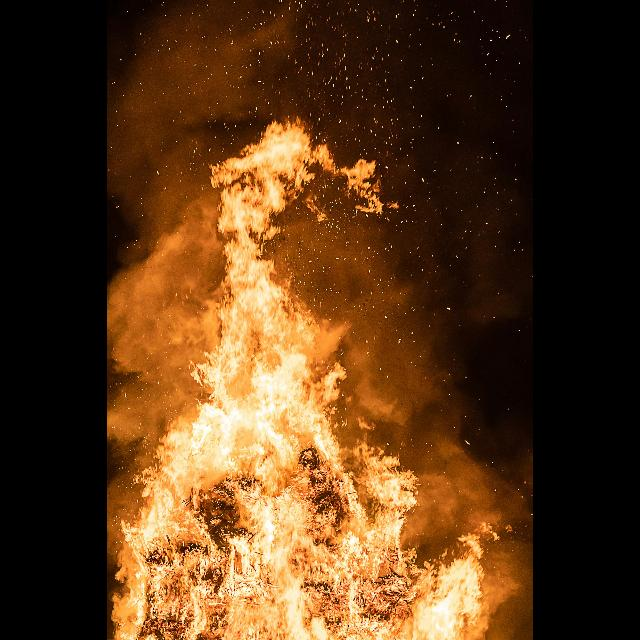fire: (114, 123, 486, 640)
